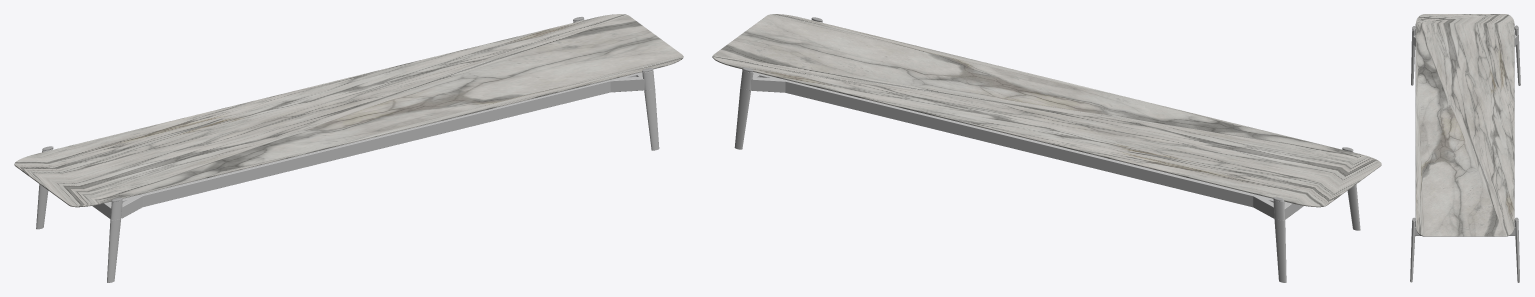
Rendered from tavolo.fbx.
3 views of the same model, side by side, from view 1: azimuth 30°, elevation 25°; view 2: azimuth 150°, elevation 25°; view 3: azimuth 270°, elevation 25° (orthographic). The views are drawn at different scales.
Parts seen in each view (by area): view 1: Table Augusta; view 2: Table Augusta; view 3: Table Augusta.
Boxes of the visible parts, box(x1,y1,x2,y2) form: Table Augusta: box(14, 14, 683, 282); Table Augusta: box(712, 14, 1381, 282); Table Augusta: box(1410, 14, 1520, 282).
Size of the model in its own units: 563 by 71.11 by 119.
